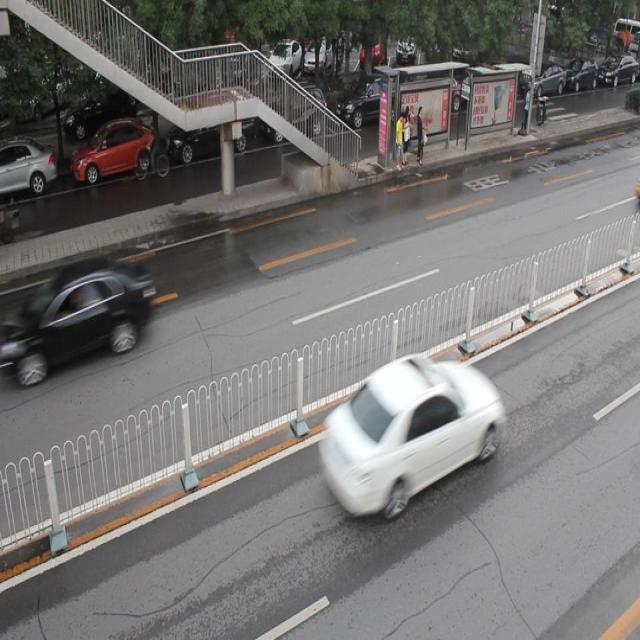car: (317, 352, 504, 518), (18, 255, 157, 377), (71, 118, 160, 181), (164, 108, 255, 160), (334, 76, 399, 133), (260, 86, 327, 139), (1, 137, 59, 198)
